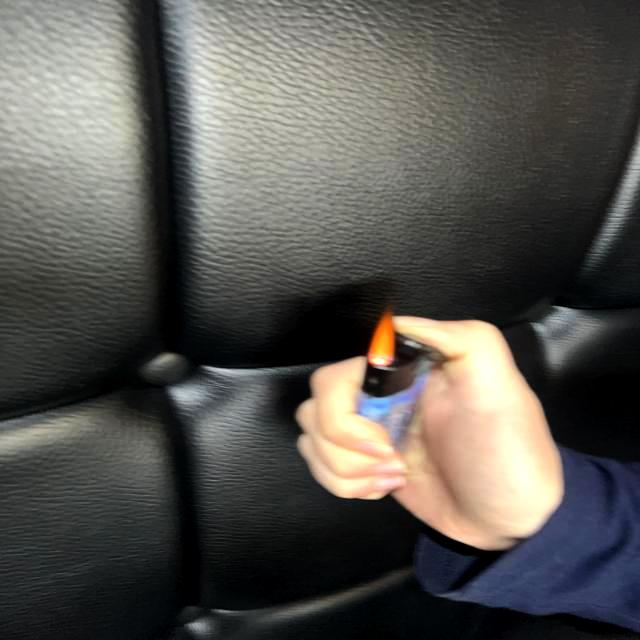fire: (362, 309, 398, 366)
